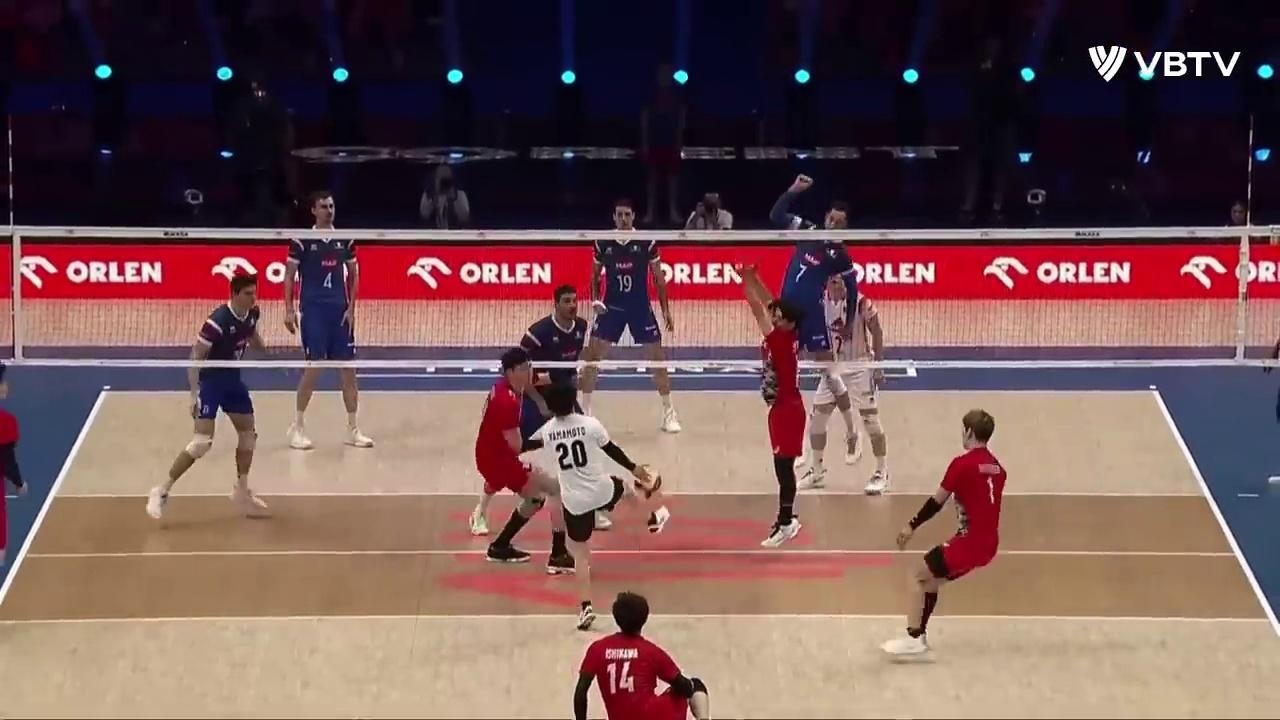ball: (633, 473, 661, 498)
